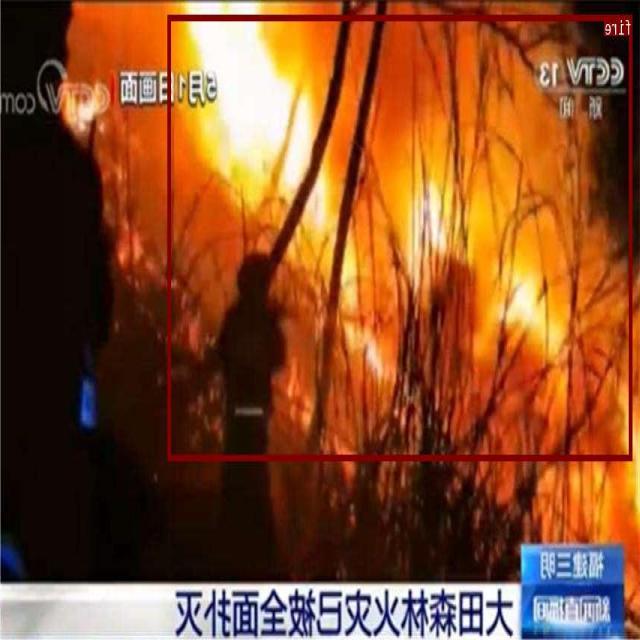fire: (168, 14, 632, 459)
